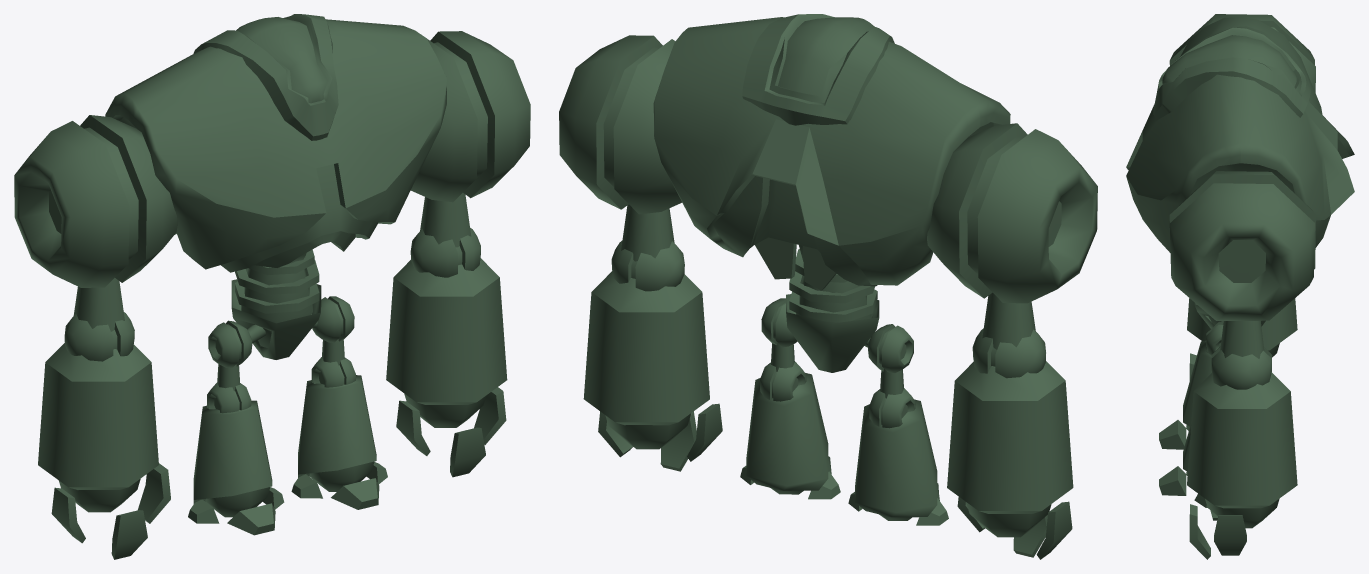
The model's file is Robot_UVexport_9.fbx.
3 renders of one model, left to right at view 1: azimuth 30°, elevation 25°; view 2: azimuth 150°, elevation 25°; view 3: azimuth 270°, elevation 25°, orthographic. The views are drawn at different scales.
Parts seen in each view (by area): view 1: Robot; view 2: Robot; view 3: Robot.
Part boxes in pixels (x1,y1,x2,y2): Robot: (14,14,530,559); Robot: (559,14,1097,559); Robot: (1126,14,1354,559).
Size of the model in its own units: 3.91 by 3.88 by 1.83.
